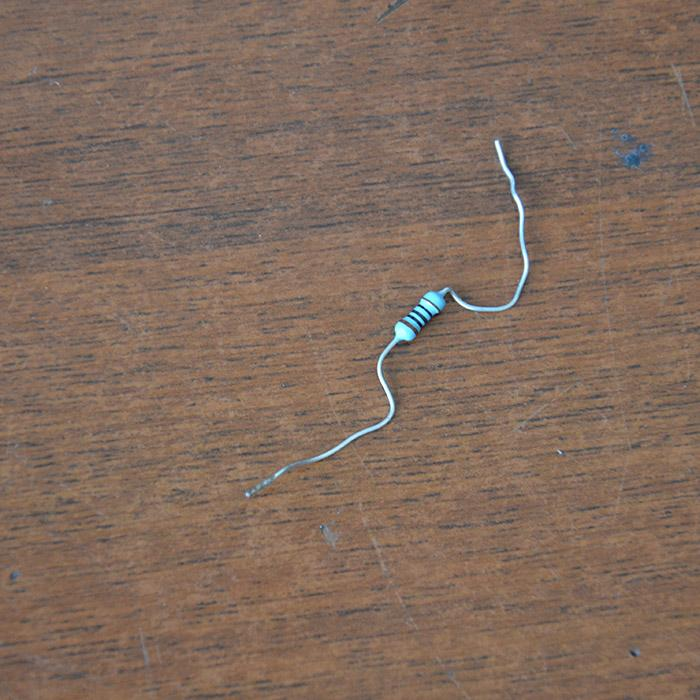resistor: (392, 289, 448, 344)
